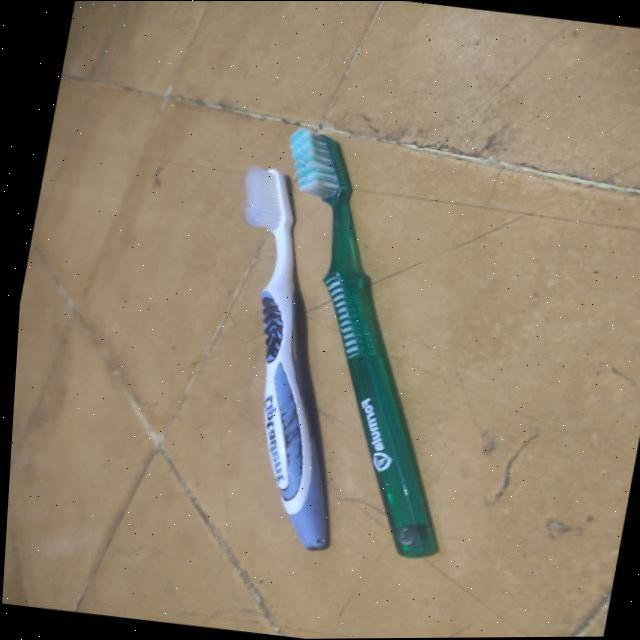toothbrush: (190, 99, 532, 586), (138, 152, 418, 608)
